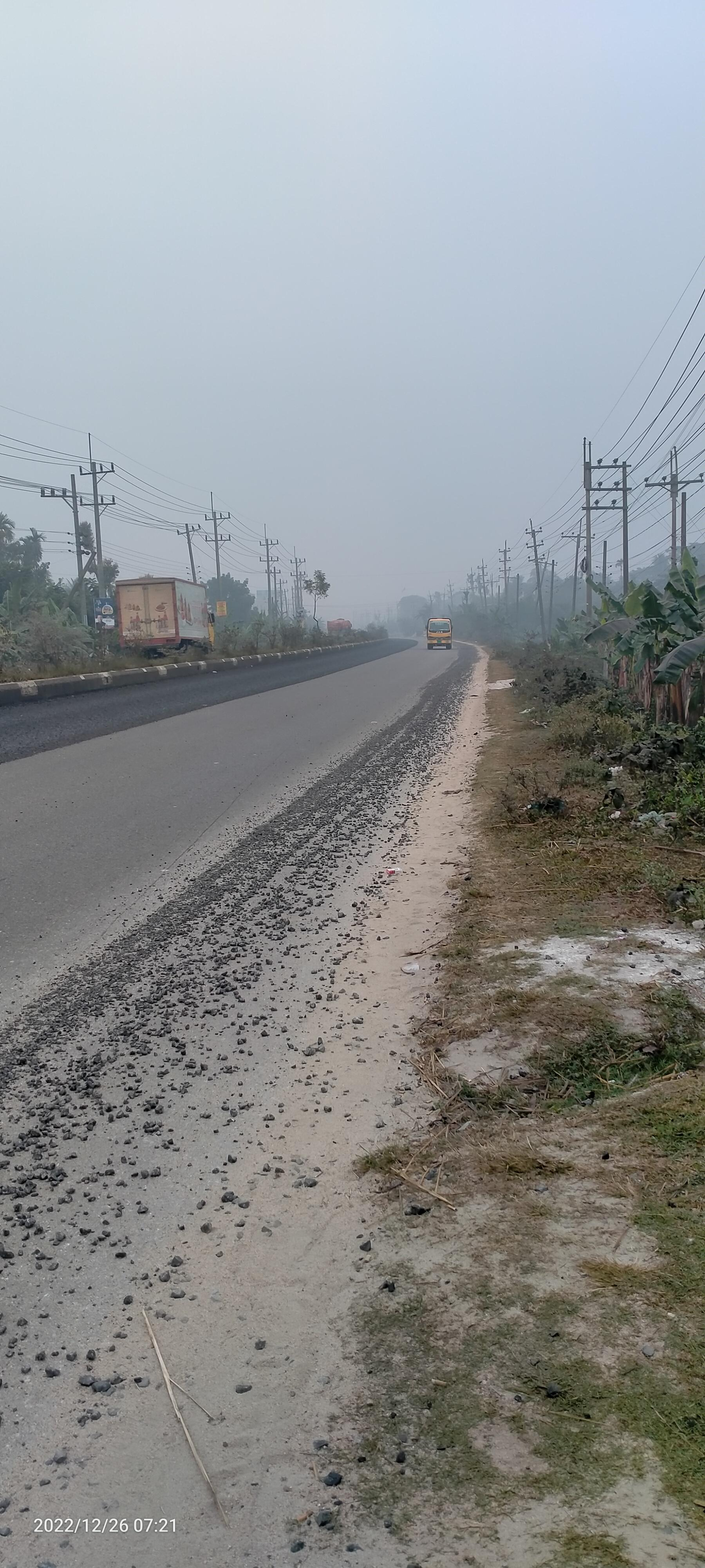Truck: (103, 559, 230, 664), (414, 604, 476, 653)
